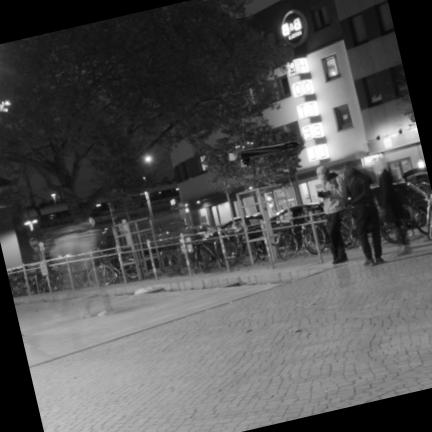Shahed: (229, 141, 299, 167)
